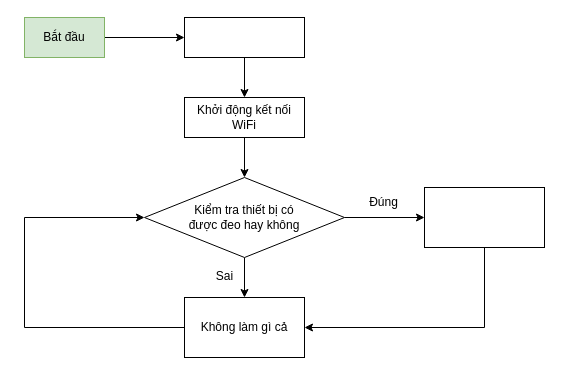
This 562x375 diagram has some shape labels left out. Each missing label, with the centre of its shape:
"Gửi dữ liệu lên Firebase" belongs at pixel 484 217.
"Khởi động cảm biến" belongs at pixel 244 37.
